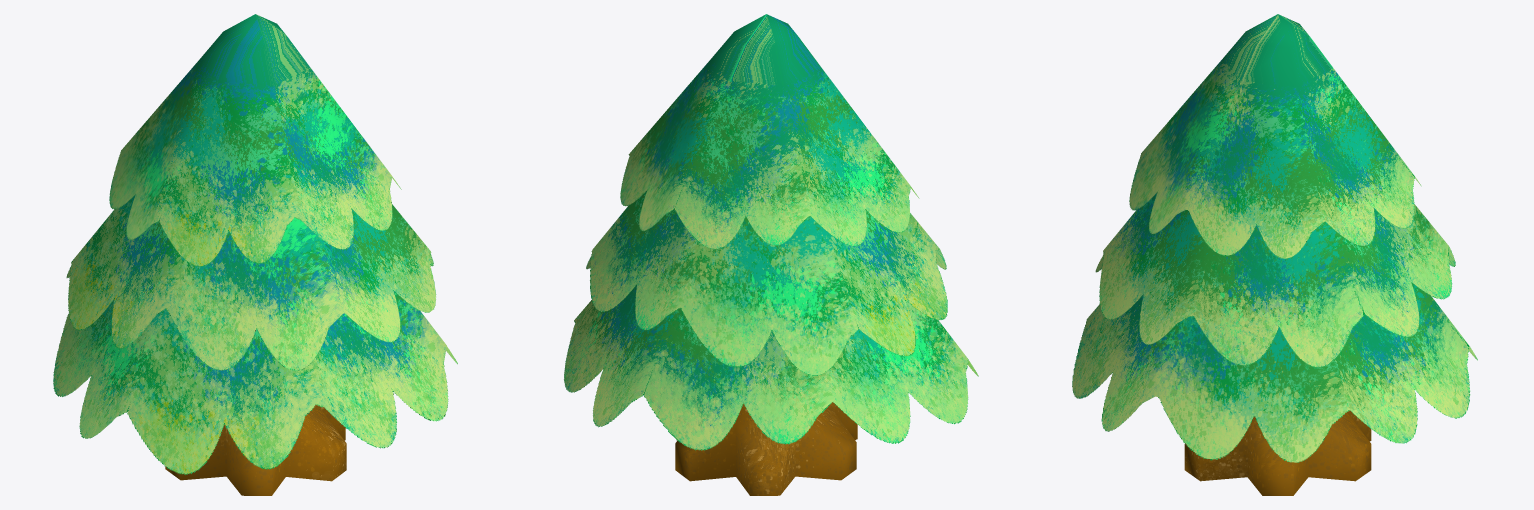
Rendered from Prac Tree.glb.
3 views of the same model, side by side, from view 1: azimuth 30°, elevation 25°; view 2: azimuth 150°, elevation 25°; view 3: azimuth 270°, elevation 25° (orthographic).
Visible parts, largest first — view 1: Treetop.003, Treetop.001, Treetop.002, Trunk; view 2: Treetop.003, Treetop.002, Treetop.001, Trunk; view 3: Treetop.003, Treetop.001, Treetop.002, Trunk.
Part boxes in pixels (left/top/right/bottom): Treetop.003: left=109, top=14, right=401, bottom=266; Treetop.001: left=53, top=291, right=457, bottom=474; Treetop.002: left=66, top=195, right=436, bottom=370; Trunk: left=165, top=405, right=346, bottom=495; Treetop.003: left=620, top=14, right=919, bottom=249; Treetop.002: left=586, top=190, right=947, bottom=376; Treetop.001: left=564, top=285, right=978, bottom=450; Trunk: left=675, top=402, right=857, bottom=495; Treetop.003: left=1129, top=14, right=1421, bottom=258; Treetop.001: left=1072, top=282, right=1477, bottom=462; Treetop.002: left=1095, top=192, right=1455, bottom=367; Trunk: left=1184, top=410, right=1371, bottom=495.
Size of the model in its own units: 7.76 by 8.25 by 8.19.
Materials: 1 (1 with a texture image).
